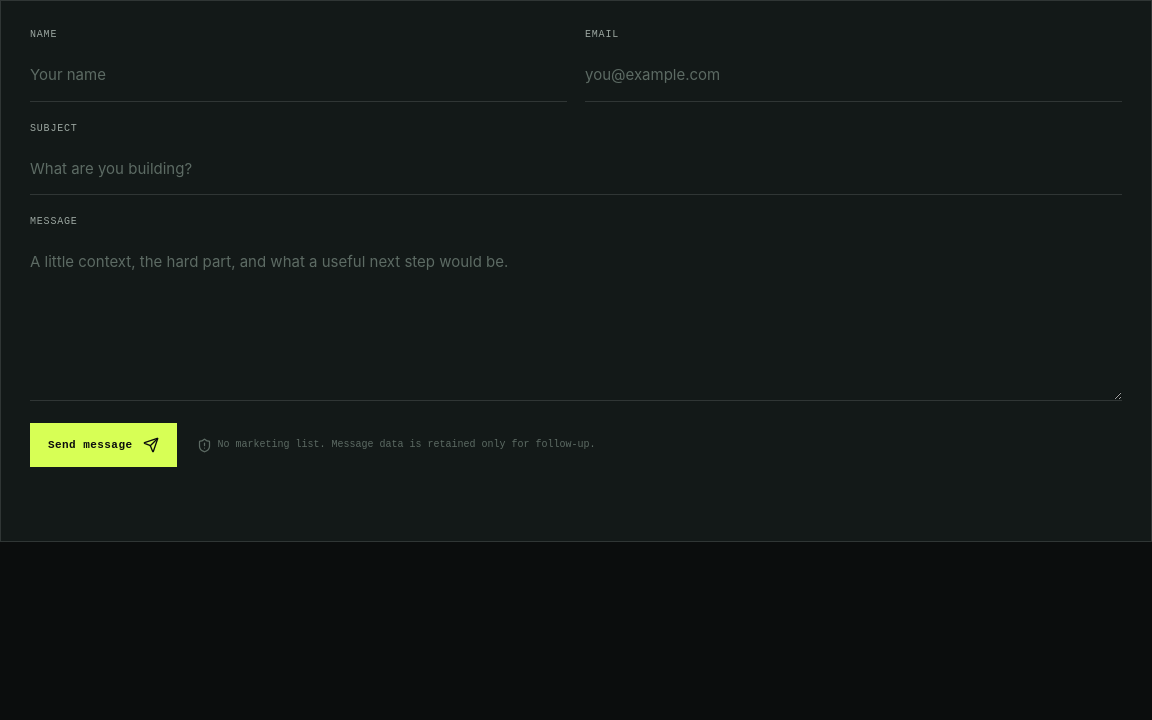
Scenario: contact form › shows success only after the API accepts the message
Step 1. Type "Ada Lovelace" into the field labelled "Name" → (298, 76), box 30,50 -> 567,102
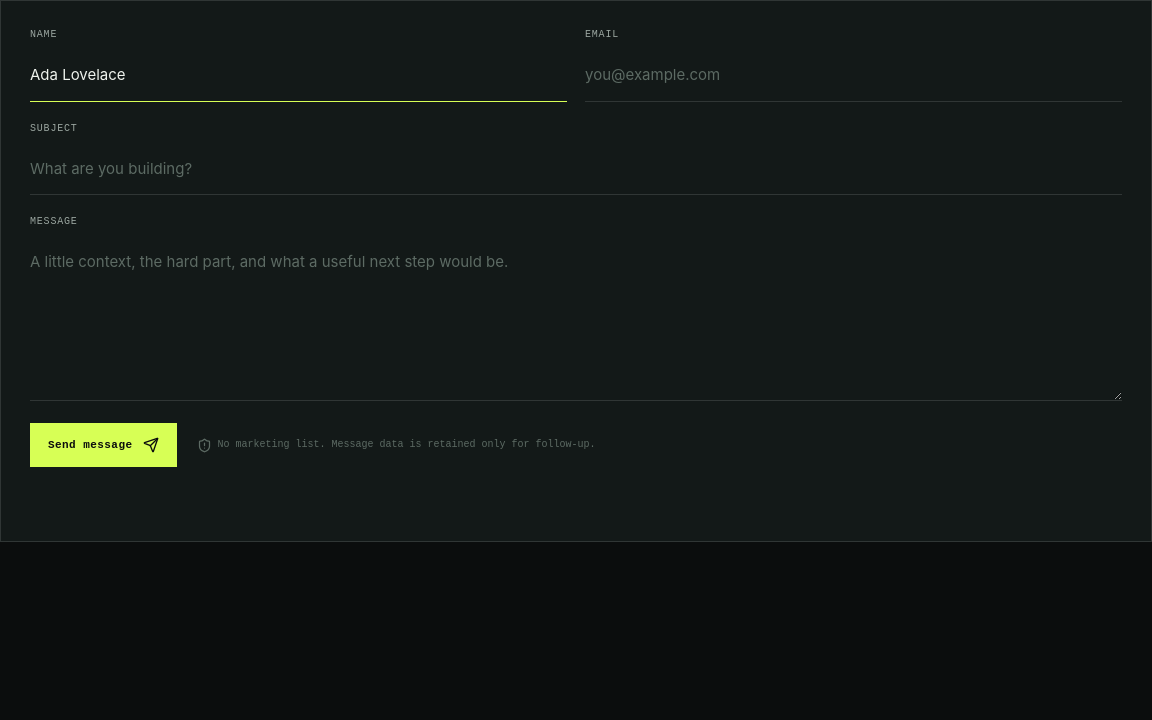
Step 2. Type "ada@example.com" into the field labelled "Email" → (854, 76), box 585,50 -> 1122,102
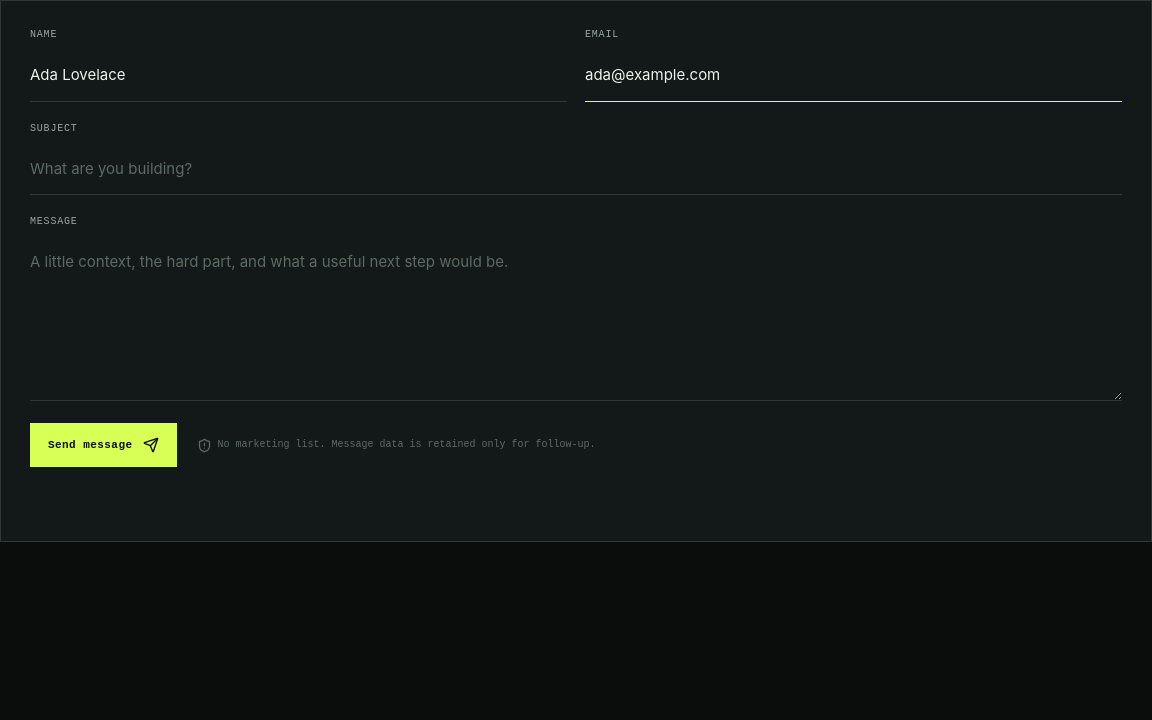
Step 3. Type "A systems question" into the field labelled "Subject" → (576, 169), box 30,144 -> 1122,195
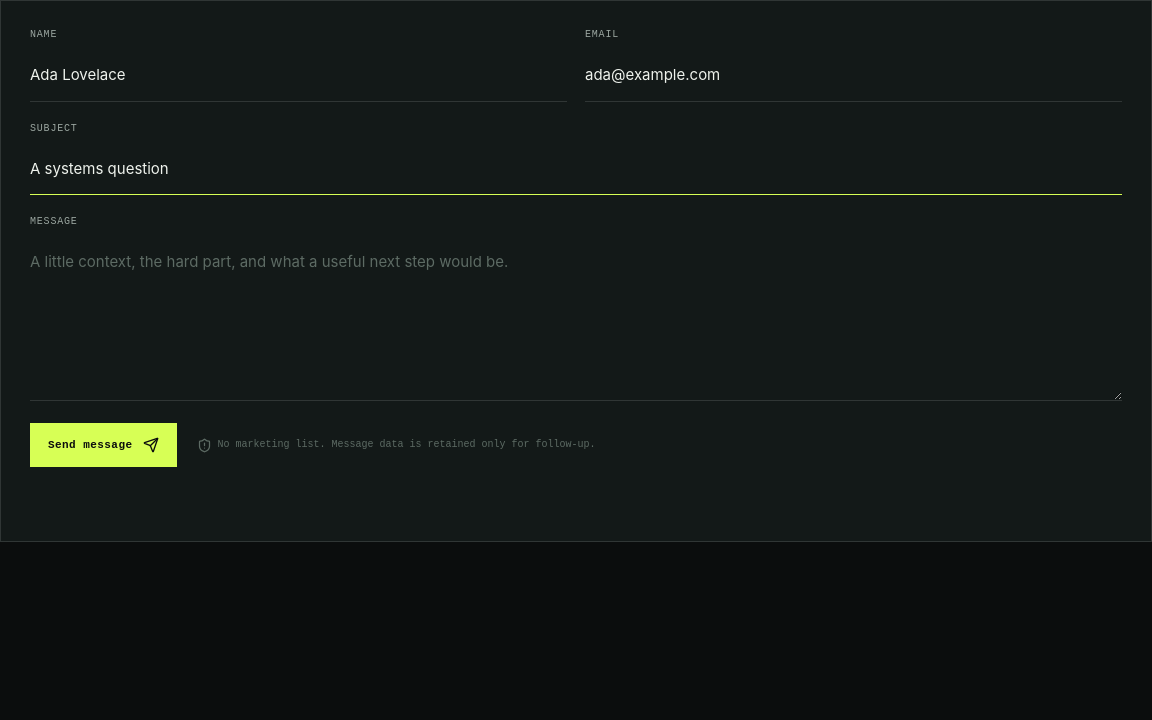
Step 4. Type "I would like to discuss a careful ML systems build." into the text box labelled "Message" → (576, 319), box 30,237 -> 1122,401
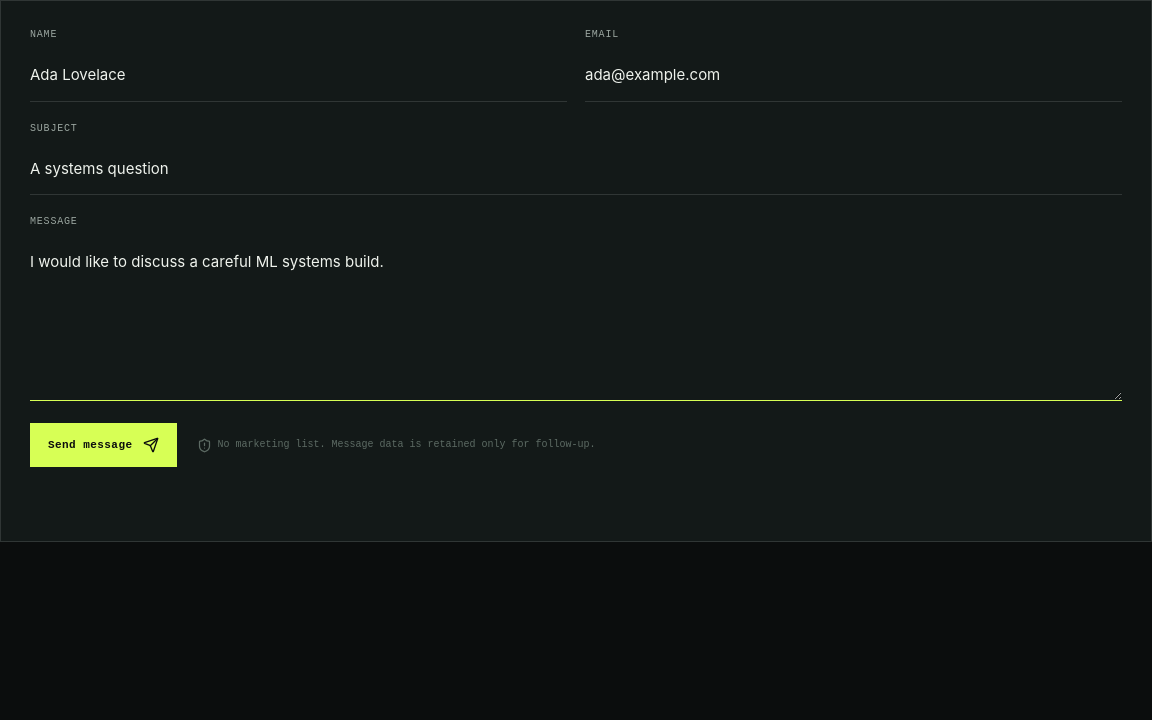
Step 5. Click the button "Send message" → (103, 445), box 30,423 -> 176,467
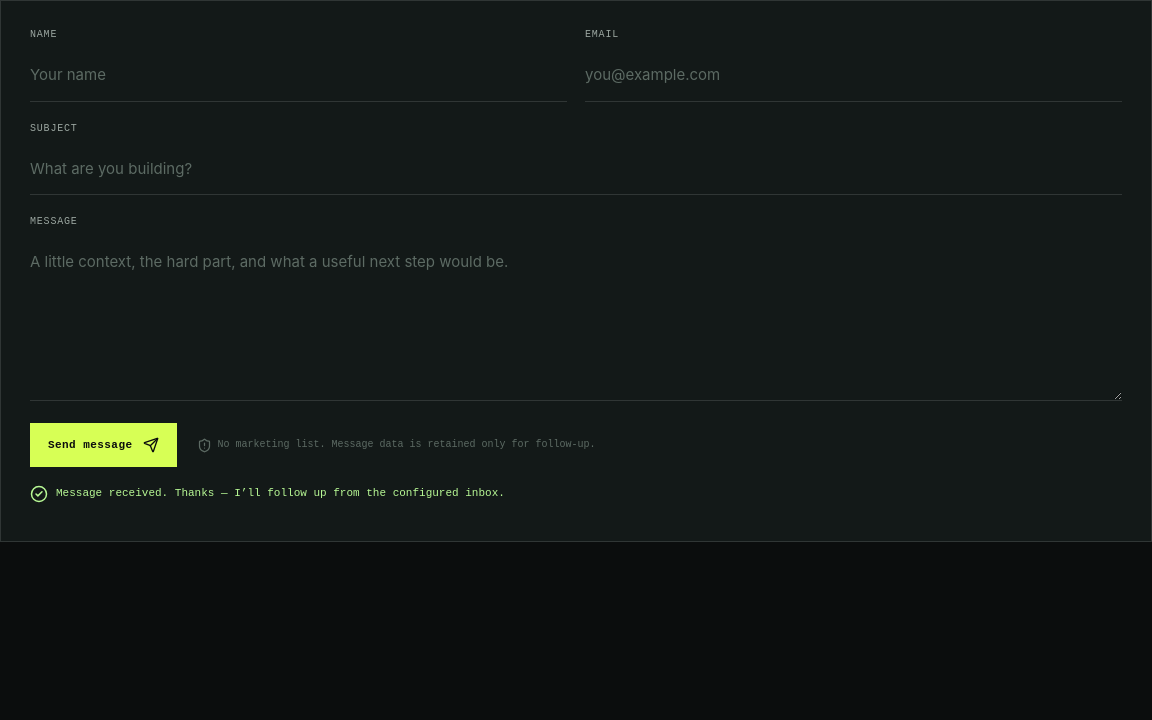
Check: the text "Message received" is shown, box 56,487 -> 505,499
